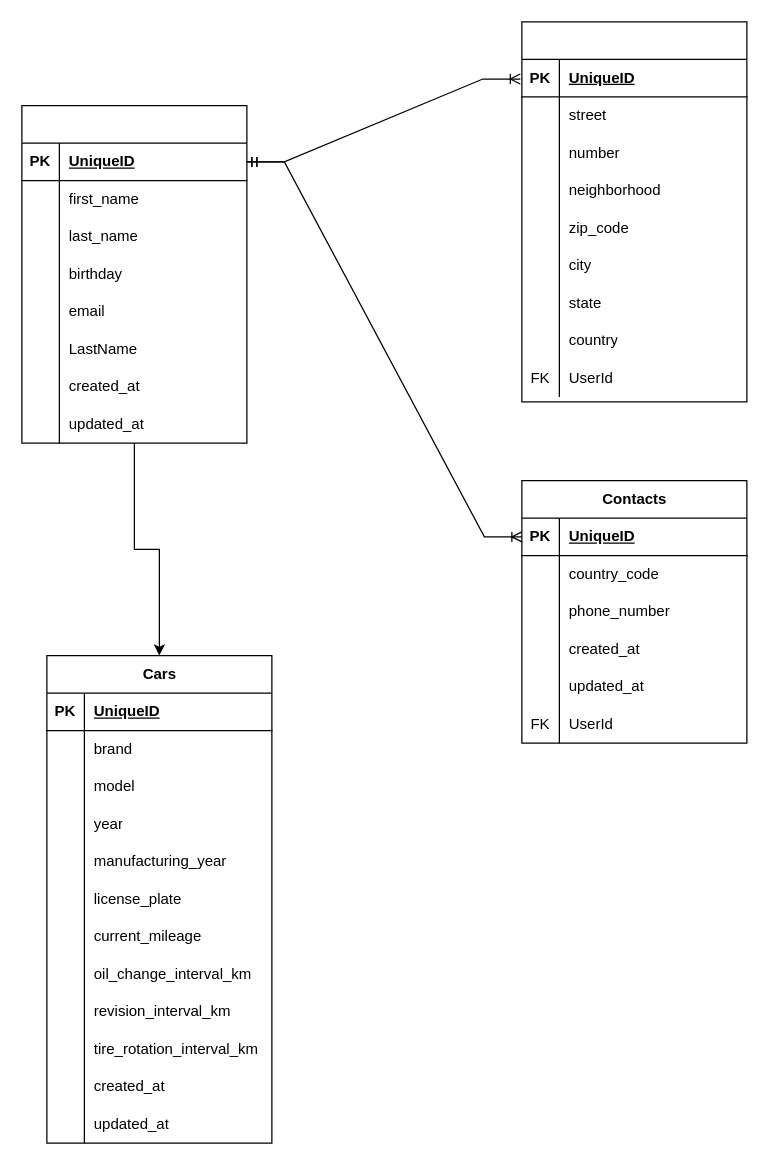
Some shapes in this 769 by 1165 pixel diagram are drawn without their labels. The box of each missing label's shape, as (x1, y1, x2, y2) in pixels:
Addresses: (521, 21, 747, 402)
Users: (21, 104, 247, 443)
